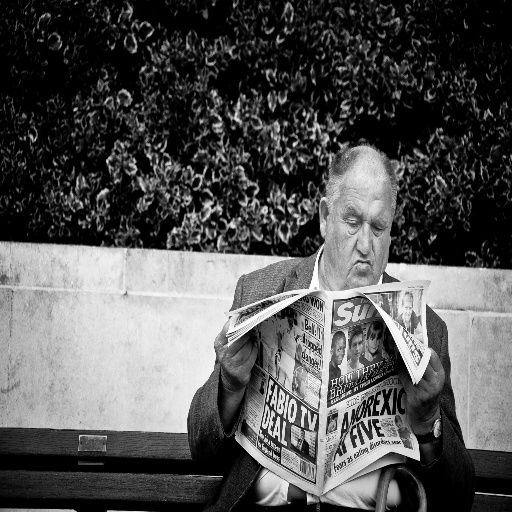hand: (395, 347, 445, 431), (212, 315, 259, 397)
